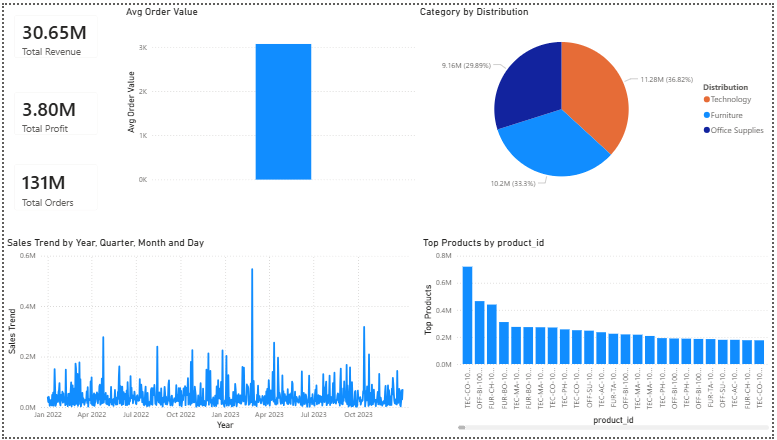

This screenshot's page, from the dashboard's own definition file:
{"tool":"powerbi","page":{"name":"Page 1","canvas":[1280,720],"ordinal":0},"visuals":[{"type":"cardVisual","fields":{"Data":["Sum(fact_sales.revenue)"]},"box":[0,10,193.3,128.3],"z":0},{"type":"cardVisual","fields":{"Data":["Sum(fact_sales.profit)"]},"box":[0,171.7,193.3,113.3],"z":1000},{"type":"lineChart","fields":{"Y":["Sum(fact_sales.revenue)"],"Category":["dim_date.order_date.Variation.Date Hierarchy.Year","dim_date.order_date.Variation.Date Hierarchy.Quarter","dim_date.order_date.Variation.Date Hierarchy.Month","dim_date.order_date.Variation.Date Hierarchy.Day"]},"box":[0,385,693.3,328.3],"z":2000},{"type":"clusteredColumnChart","fields":{"Category":["dim_product.product_id"],"Y":["Sum(fact_sales.revenue)"]},"box":[693.3,385,586.7,328.3],"z":3000},{"type":"pieChart","fields":{"Category":["dim_product.category"],"Y":["Sum(fact_sales.revenue)"]},"box":[688.3,0,591.7,328.3],"z":4000},{"type":"cardVisual","fields":{"Data":["Sum(fact_sales.order_id)"]},"box":[266.7,150,206.7,148.3],"z":5000},{"type":"cardVisual","fields":{"Data":["dim_date.Average Order Value"]},"box":[266.7,0,226.7,150],"z":6000}]}

Visuals, with their boxes in screenshot pixels (x1, y1, x2, y2), scaled from the page's 1280x720 canvas onto the 777x440 screenshot:
cardVisual - Sum(fact_sales.revenue): box(0, 6, 117, 85)
cardVisual - Sum(fact_sales.profit): box(0, 105, 117, 174)
lineChart - Sum(fact_sales.revenue) x dim_date.order_date.Variation.Date Hierarchy.Year: box(0, 235, 421, 436)
clusteredColumnChart - dim_product.product_id x Sum(fact_sales.revenue): box(421, 235, 776, 436)
pieChart - dim_product.category x Sum(fact_sales.revenue): box(418, 0, 776, 201)
cardVisual - Sum(fact_sales.order_id): box(162, 92, 287, 182)
cardVisual - dim_date.Average Order Value: box(162, 0, 300, 92)
